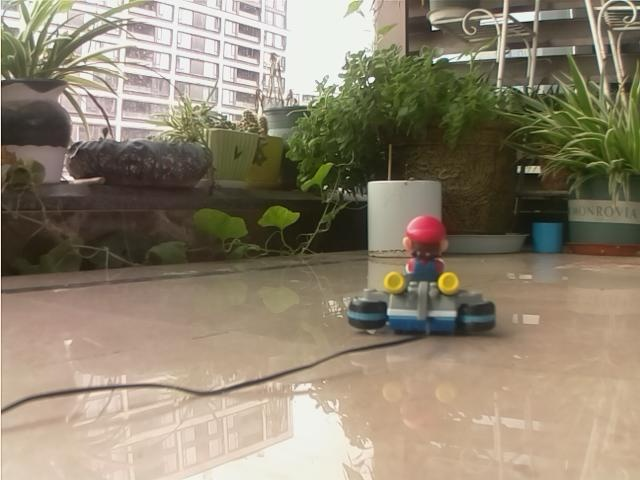mario: (330, 207, 515, 345)
